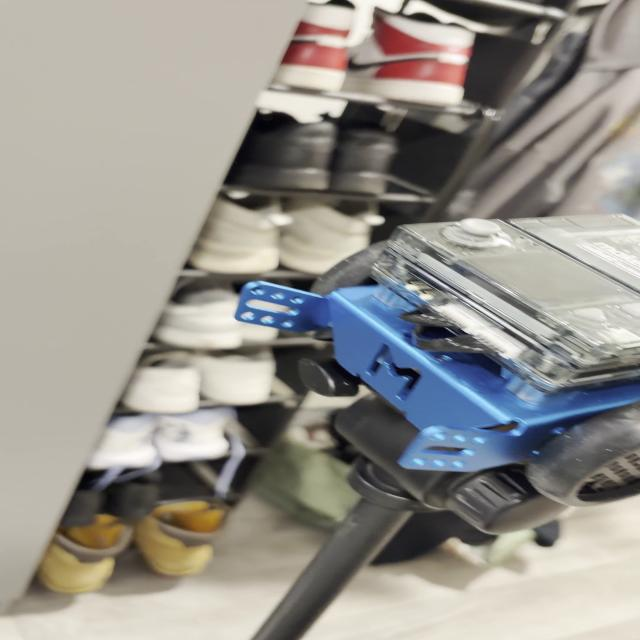mbot-detection: (225, 200, 640, 511)
